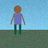person: (10, 5, 25, 34)
